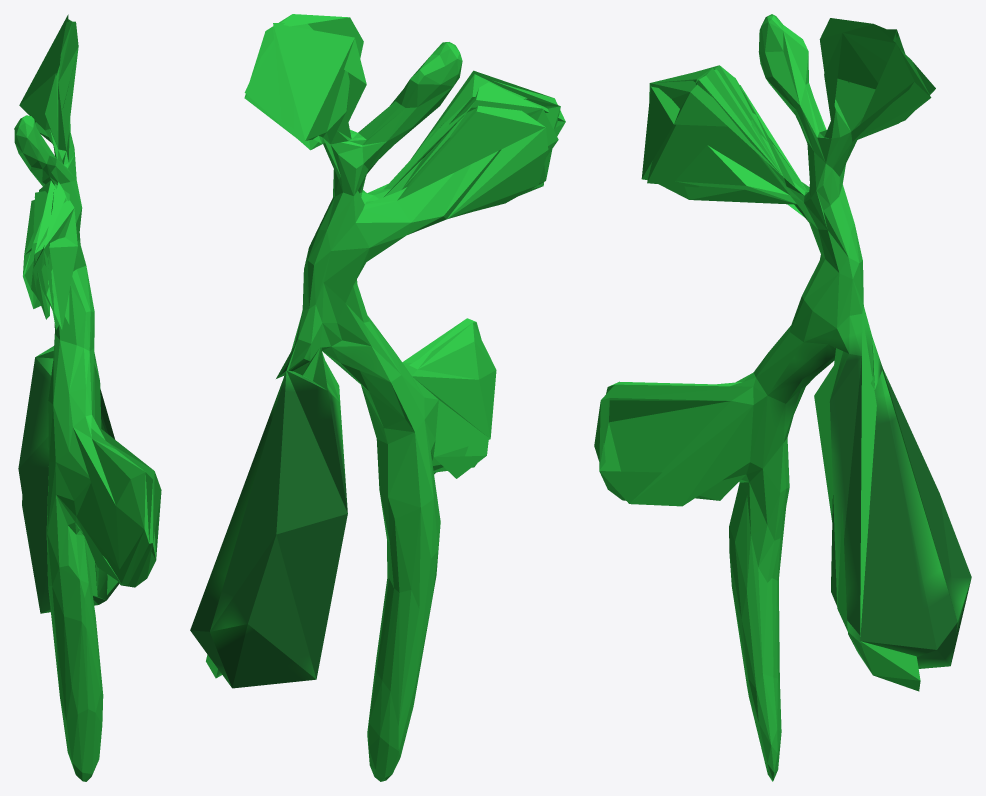
Rendered from Concombre.fbx.
3 views of the same model, side by side, from view 1: azimuth 30°, elevation 25°; view 2: azimuth 150°, elevation 25°; view 3: azimuth 270°, elevation 25° (orthographic). The views are drawn at different scales.
Parts seen in each view (by area): view 1: Concombre; view 2: Concombre; view 3: Concombre.
Boxes of the visible parts, x1,y1,x2,y2 form: Concombre: (14,14,161,781); Concombre: (190,14,565,781); Concombre: (594,14,971,781).
Size of the model in its own units: 225 by 729 by 322.
1 material, 1 textured.
